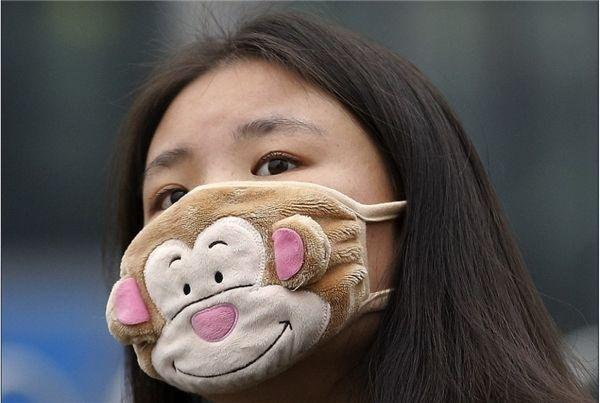mask: (115, 112, 384, 389)
